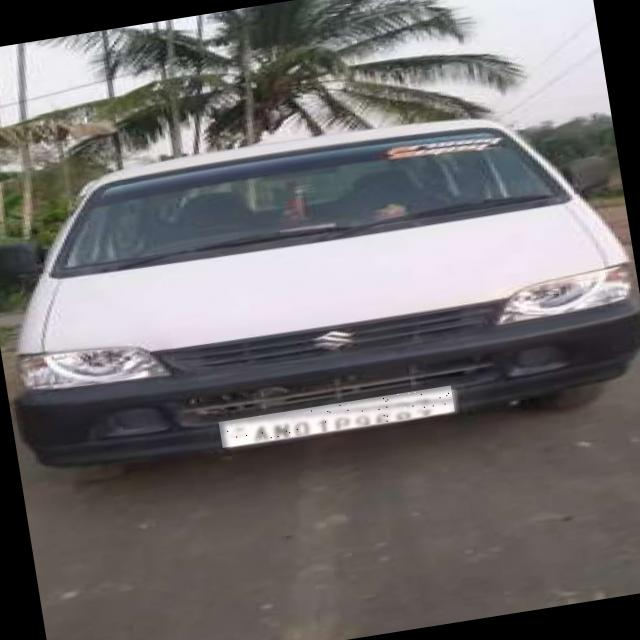Plate: (220, 387, 456, 449)
